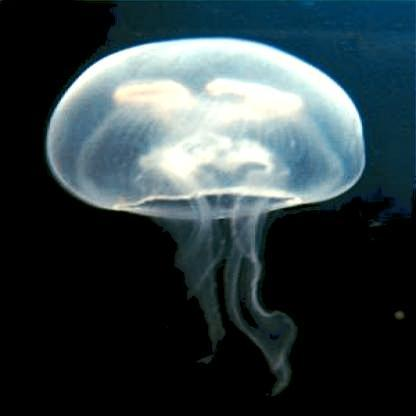Speckle: (46, 41, 368, 395)
